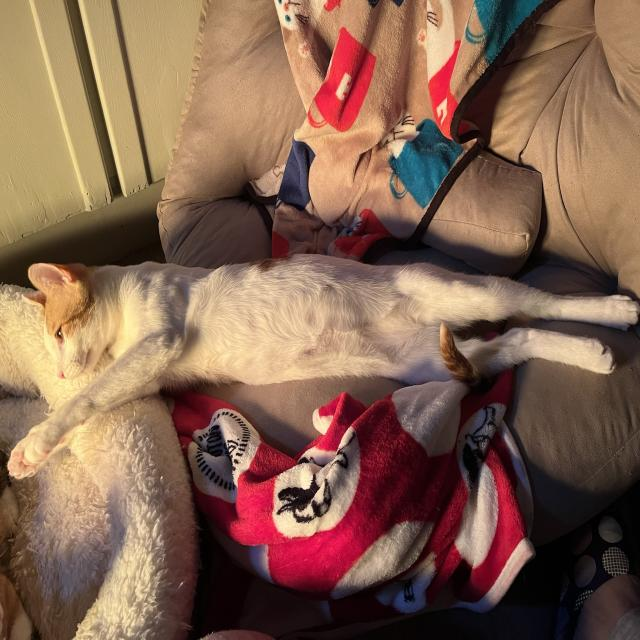cat1: (4, 252, 640, 478)
